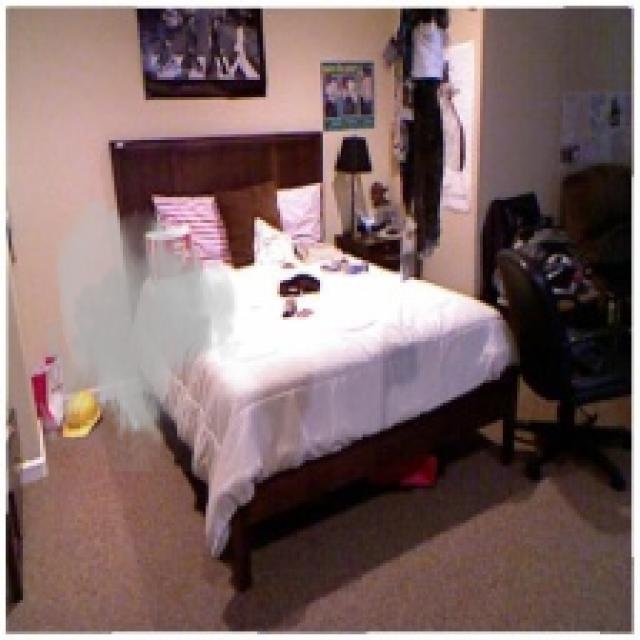smoke: (31, 192, 243, 472)
